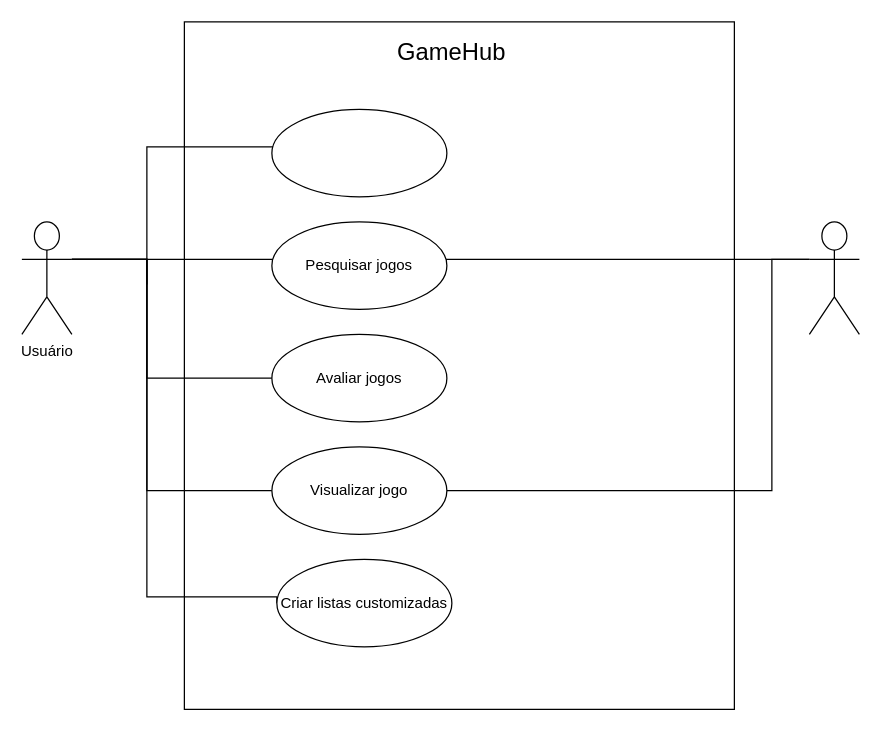
Some shapes in this 894 by 731 pixel diagram are drawn without their labels. The centre of each missing label's shape, as x and y in pixels:
Fazer Login: (x=359, y=152)
Games API: (x=833, y=277)
